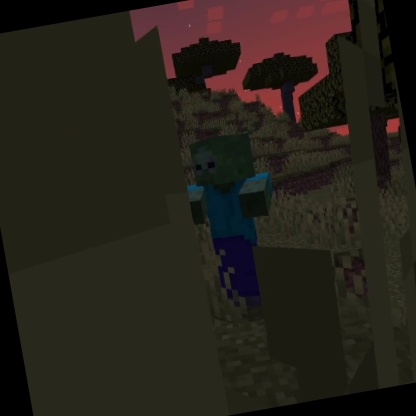zombie: (176, 124, 298, 320)
